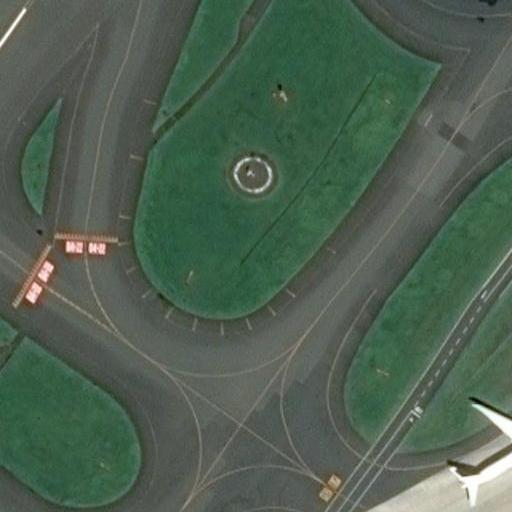Aircraft: (442, 391, 512, 512)
